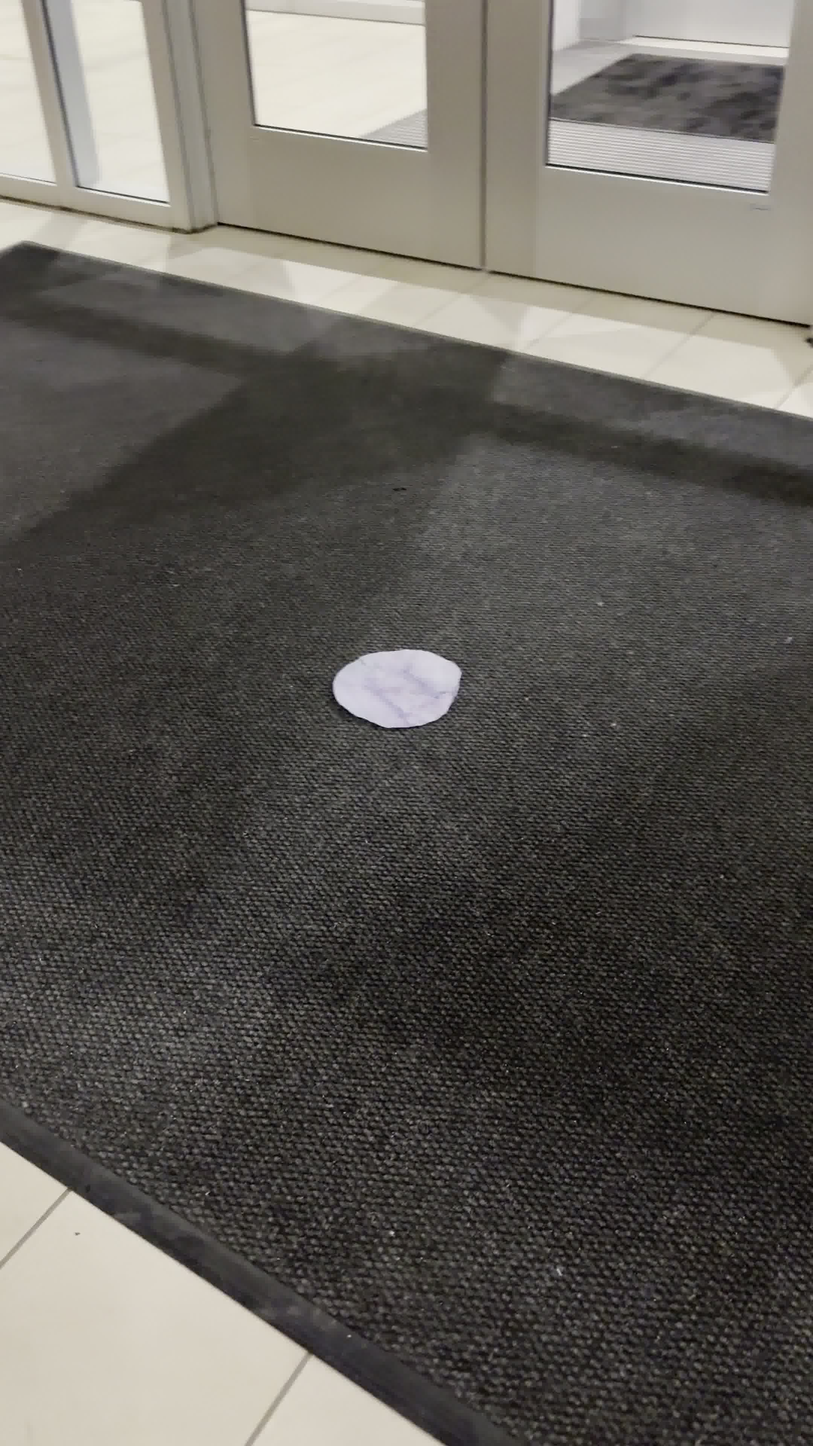Target: (332, 649, 462, 728)
